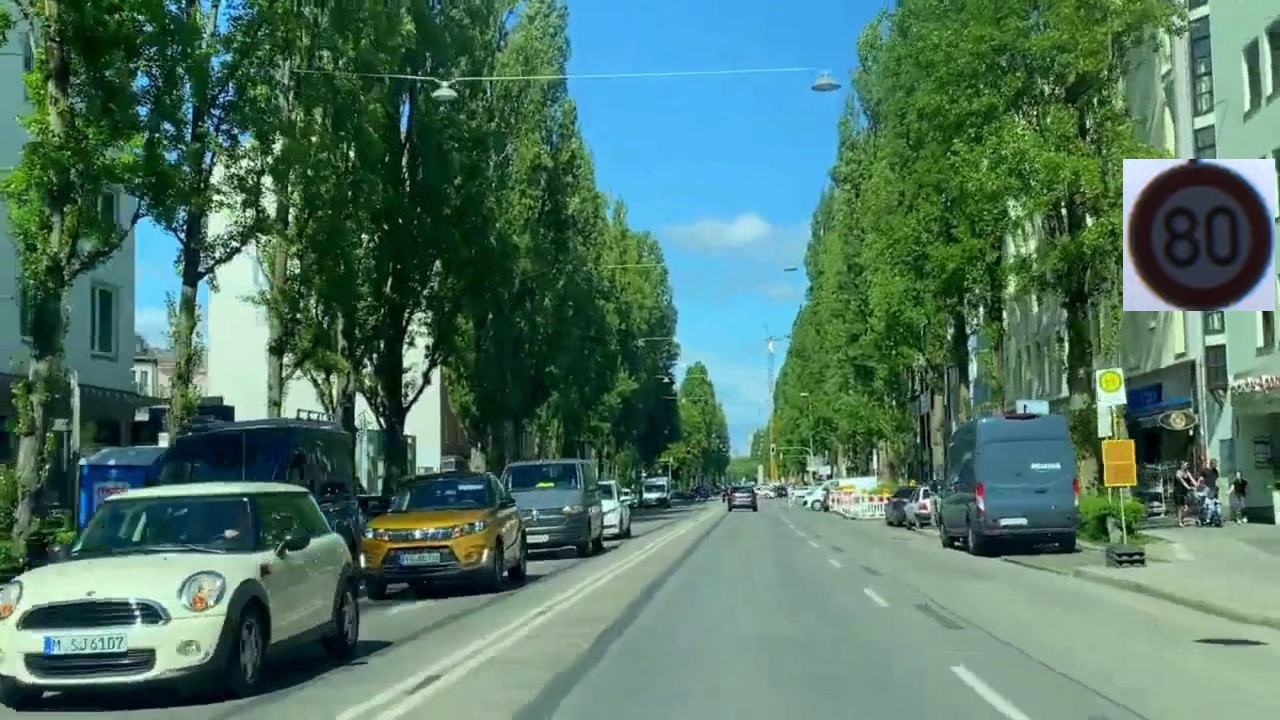Speed 80: (1123, 159, 1275, 311)
